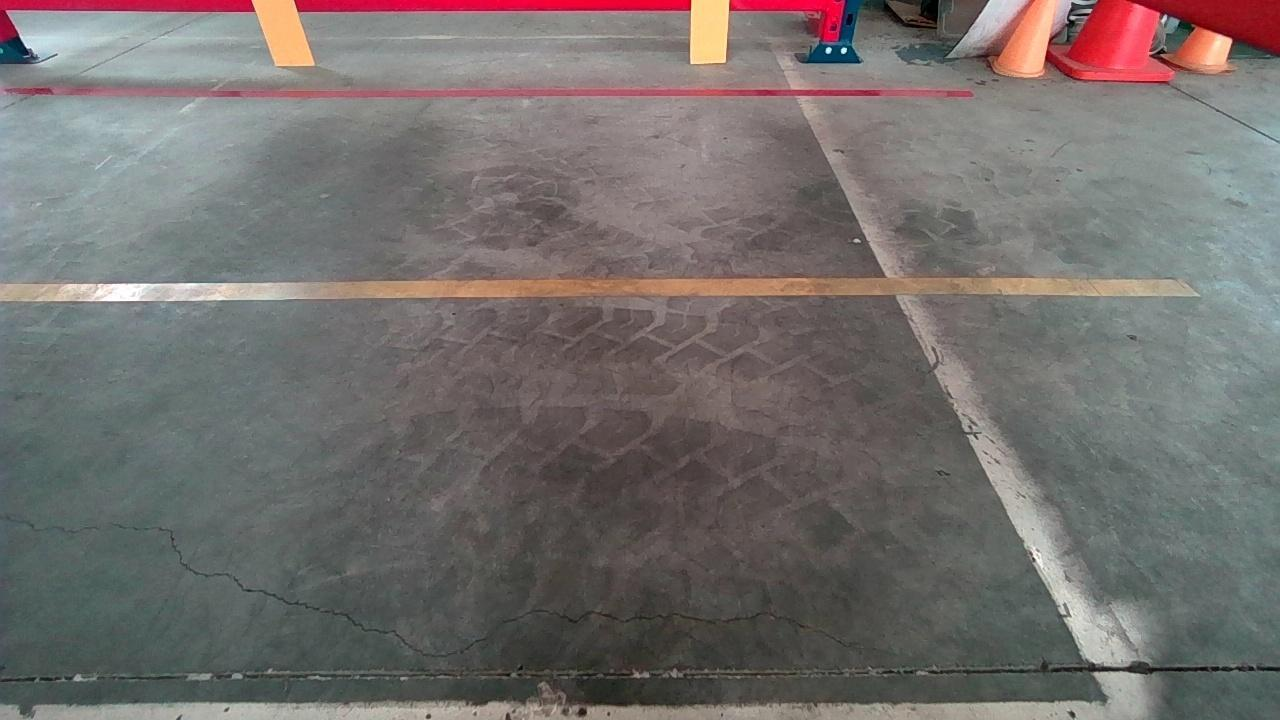orange_strip: (252, 0, 315, 64), (690, 0, 729, 61)
red_line: (0, 84, 973, 101)
yellow_line: (0, 276, 1194, 304)
